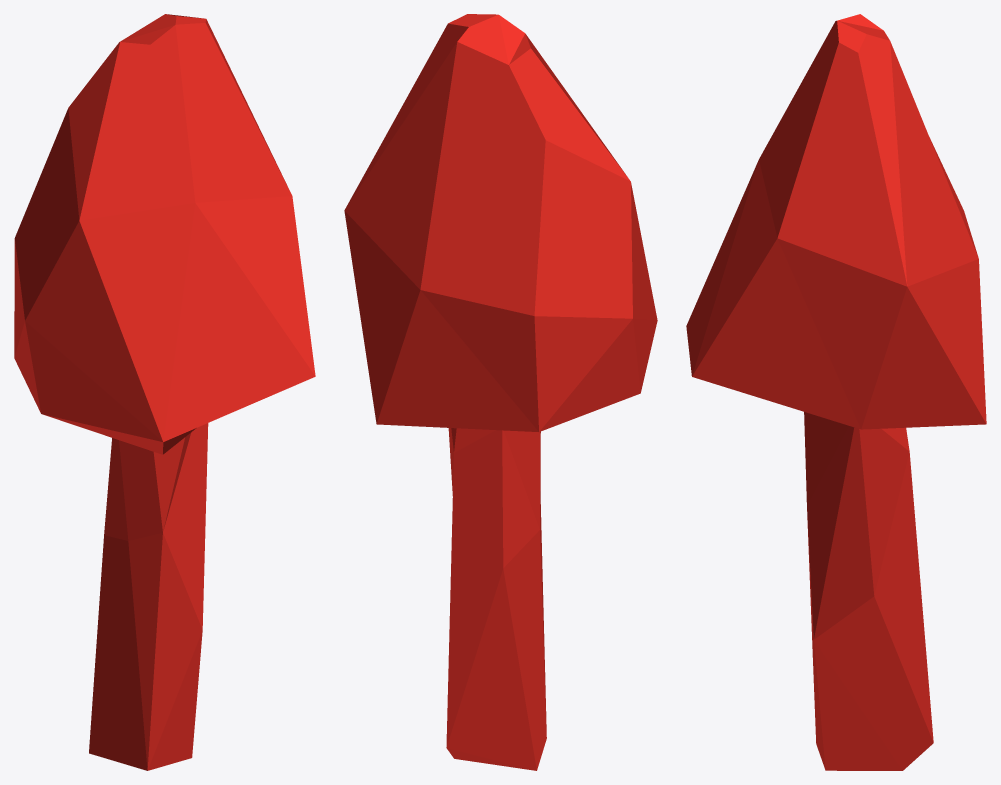
File: mushroom_01.FBX
3 renders of one model, left to right at view 1: azimuth 30°, elevation 25°; view 2: azimuth 150°, elevation 25°; view 3: azimuth 270°, elevation 25°, orthographic. The views are drawn at different scales.
Visible parts, largest first — view 1: mushroom_002; view 2: mushroom_002; view 3: mushroom_002.
Boxes of the visible parts, x1,y1,x2,y2 form: mushroom_002: (14, 14, 315, 770); mushroom_002: (344, 14, 657, 770); mushroom_002: (686, 14, 986, 770).
Bounding box in the file's own units: 11.54 × 30.5 × 11.15.
